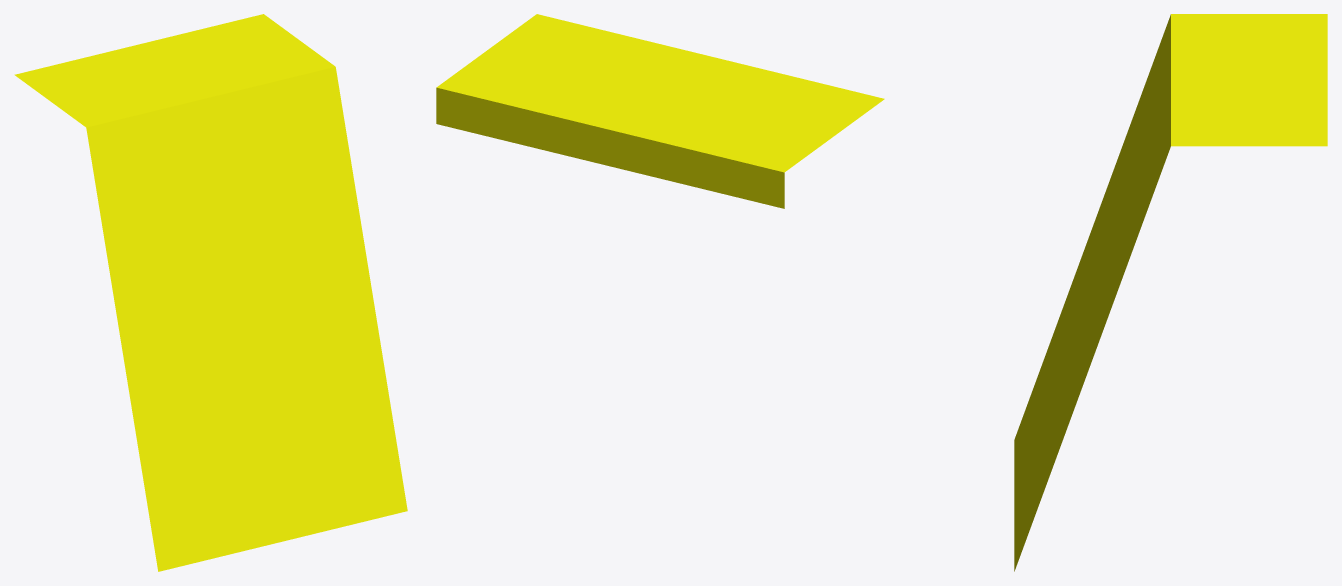
The model's file is roof-slate-center.glb.
The picture shows the model from 3 angles, left to right: view 1: azimuth 30°, elevation 25°; view 2: azimuth 150°, elevation 25°; view 3: azimuth 270°, elevation 25°; orthographic projection. The views are drawn at different scales.
Parts seen in each view (by area): view 1: Roof_Slate_Center; view 2: Roof_Slate_Center; view 3: Roof_Slate_Center.
Part boxes in pixels (<box>): Roof_Slate_Center: <box>14,14,407,571</box>; Roof_Slate_Center: <box>436,14,884,208</box>; Roof_Slate_Center: <box>1014,14,1327,571</box>.
Size of the model in its own units: 2 by 3 by 2.
Materials: 2 (2 with a texture image).
